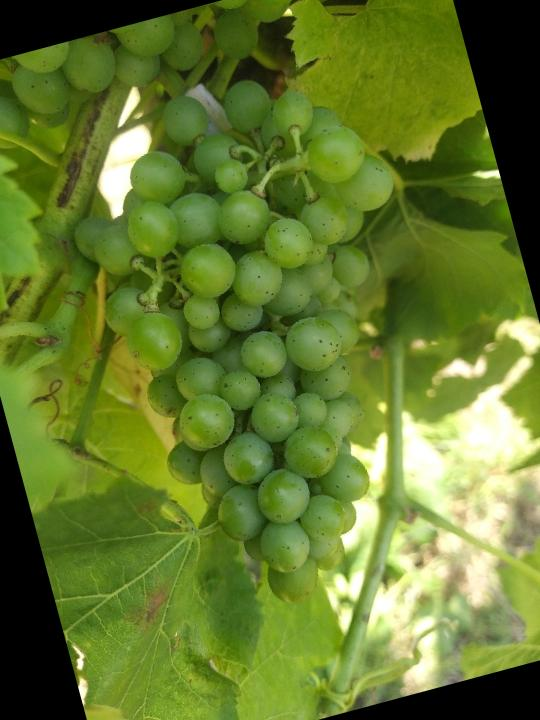grape: (43, 42, 498, 634)
